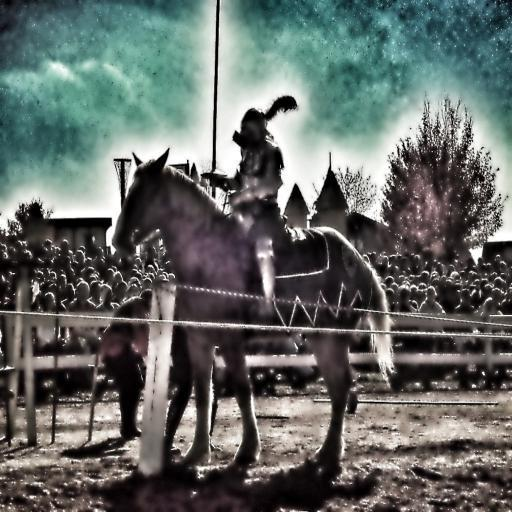horse: (110, 148, 400, 470)
